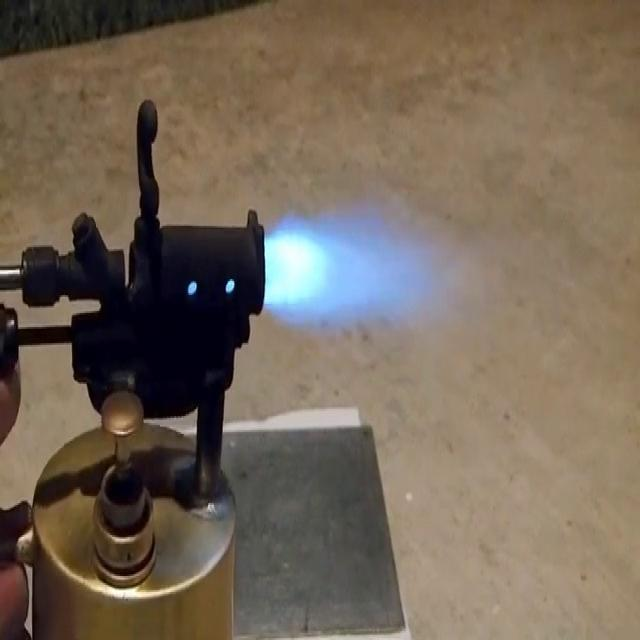fire: (257, 187, 496, 349)
